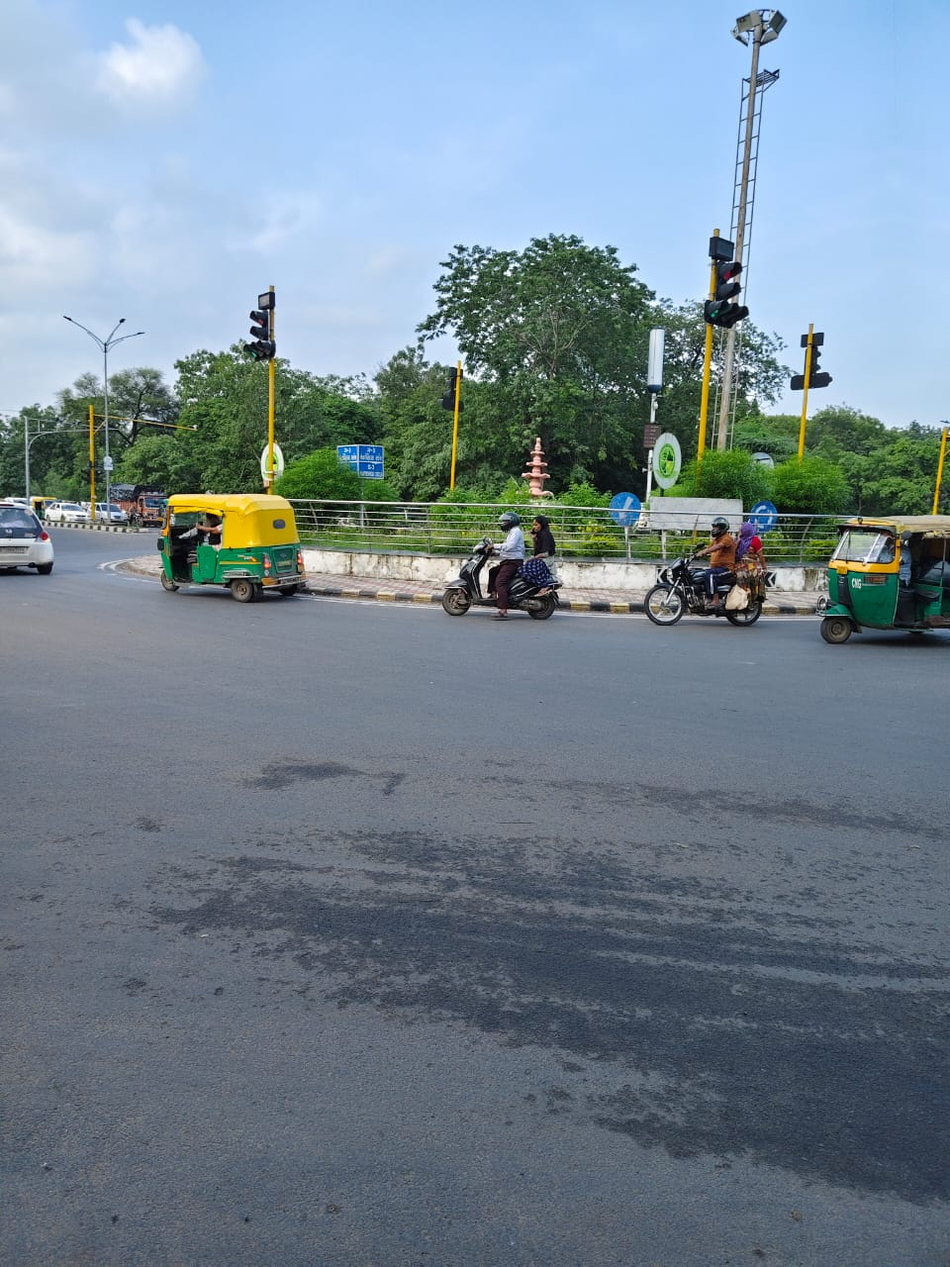BikeWithRider: (635, 512, 780, 631), (432, 505, 568, 625)
Helmet: (492, 507, 523, 533), (708, 516, 731, 537)
NoHelmet: (531, 511, 550, 536), (738, 520, 757, 539)
